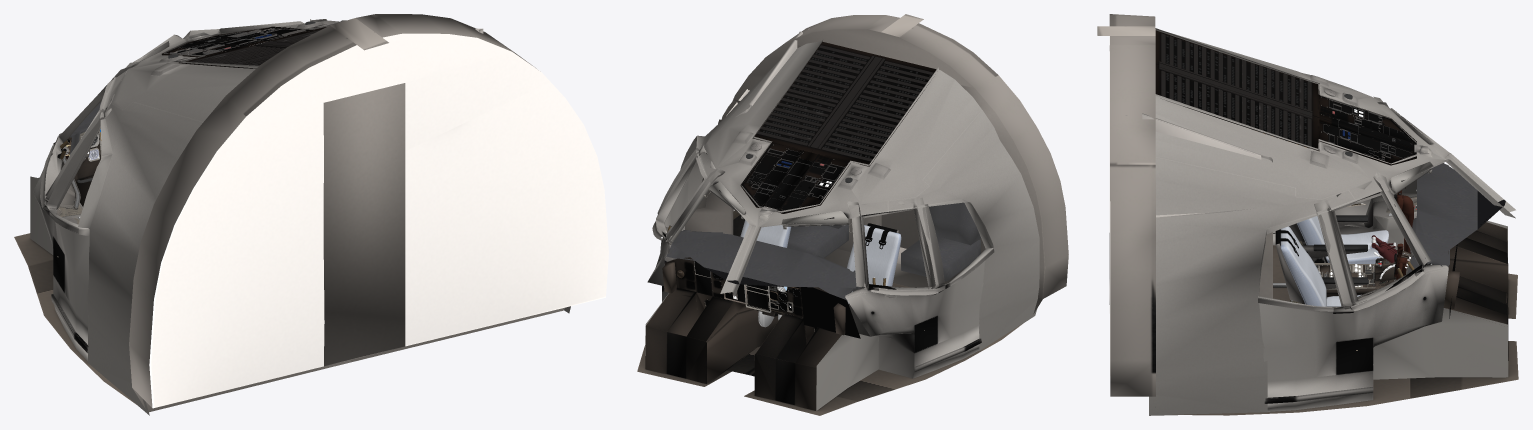
3 views of the same model, side by side, from view 1: azimuth 30°, elevation 25°; view 2: azimuth 150°, elevation 25°; view 3: azimuth 270°, elevation 25° (orthographic). The views are drawn at different scales.
Visible parts, largest first — view 1: static-material-27, static-material-4, static-material-28, static-material-8, static-material-21, static-material-102, static-material-36, static-material-101, static-material-3, static-material-11; view 2: static-material-28, static-material-8, static-material-4, static-material-11, static-material-102, static-material-3, static-material-101, static-material-21, static-material-15, static-material-30, static-material-10, static-material-36 (+2 smaller); view 3: static-material-28, static-material-8, static-material-4, static-material-102, static-material-101, static-material-3, static-material-30, static-material-21, static-material-11, static-material-15, static-material-36, static-material-20 (+4 smaller).
Part boxes in pixels (x1=…): static-material-27: x1=149, y1=33, x2=608, y2=408; static-material-4: x1=59, y1=14, x2=564, y2=412; static-material-28: x1=78, y1=20, x2=570, y2=415; static-material-8: x1=30, y1=19, x2=327, y2=361; static-material-21: x1=14, y1=233, x2=139, y2=406; static-material-102: x1=161, y1=26, x2=326, y2=68; static-material-36: x1=45, y1=71, x2=126, y2=209; static-material-101: x1=189, y1=29, x2=321, y2=65; static-material-3: x1=56, y1=21, x2=315, y2=224; static-material-11: x1=39, y1=132, x2=100, y2=206; static-material-28: x1=680, y1=40, x2=1039, y2=350; static-material-8: x1=645, y1=148, x2=994, y2=410; static-material-4: x1=662, y1=14, x2=1068, y2=313; static-material-11: x1=645, y1=257, x2=841, y2=410; static-material-102: x1=740, y1=41, x2=936, y2=213; static-material-3: x1=666, y1=154, x2=980, y2=331; static-material-101: x1=757, y1=45, x2=933, y2=161; static-material-21: x1=637, y1=99, x2=1024, y2=415; static-material-15: x1=706, y1=301, x2=783, y2=383; static-material-30: x1=740, y1=220, x2=901, y2=303; static-material-10: x1=662, y1=262, x2=860, y2=338; static-material-36: x1=656, y1=144, x2=938, y2=290; static-material-28: x1=1149, y1=28, x2=1515, y2=415; static-material-8: x1=1258, y1=96, x2=1508, y2=411; static-material-4: x1=1097, y1=14, x2=1405, y2=407; static-material-102: x1=1155, y1=30, x2=1416, y2=165; static-material-101: x1=1159, y1=33, x2=1312, y2=146; static-material-3: x1=1314, y1=94, x2=1477, y2=289; static-material-30: x1=1275, y1=215, x2=1388, y2=307; static-material-21: x1=1172, y1=204, x2=1518, y2=415; static-material-11: x1=1445, y1=222, x2=1508, y2=360; static-material-15: x1=1317, y1=245, x2=1508, y2=306; static-material-36: x1=1314, y1=181, x2=1424, y2=309; static-material-20: x1=1125, y1=113, x2=1272, y2=218.
Size of the model in its own units: 3.36 by 2.48 by 3.13.
131 materials, 117 textured.
